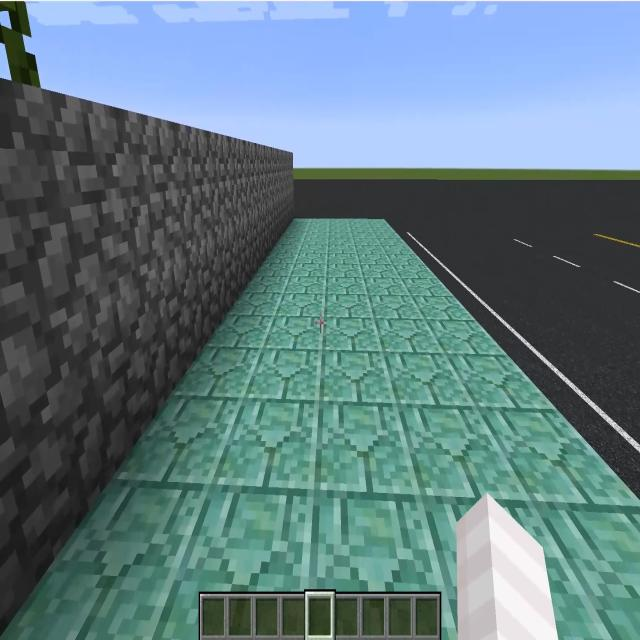road: (294, 180, 640, 498)
sidewalk: (5, 219, 640, 639)
